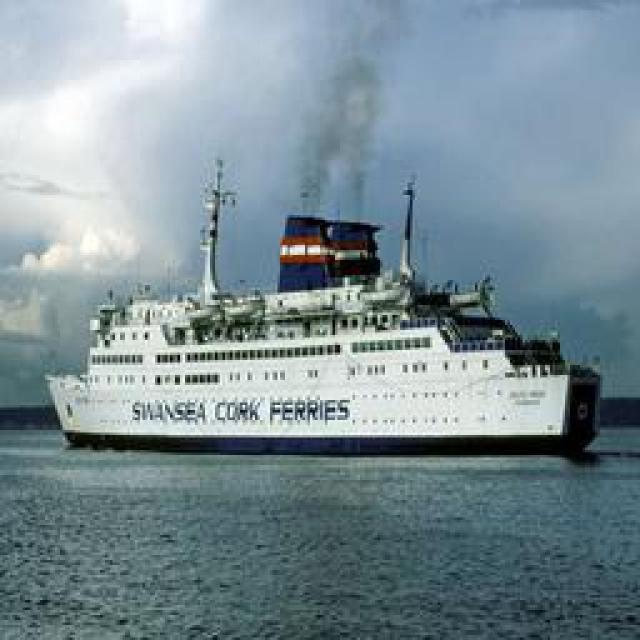Ship: (50, 167, 605, 447)
